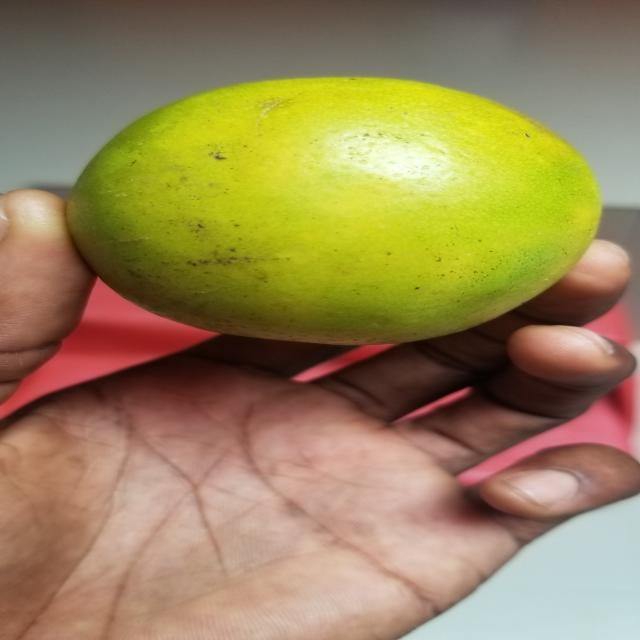agrume: (66, 70, 594, 344)
